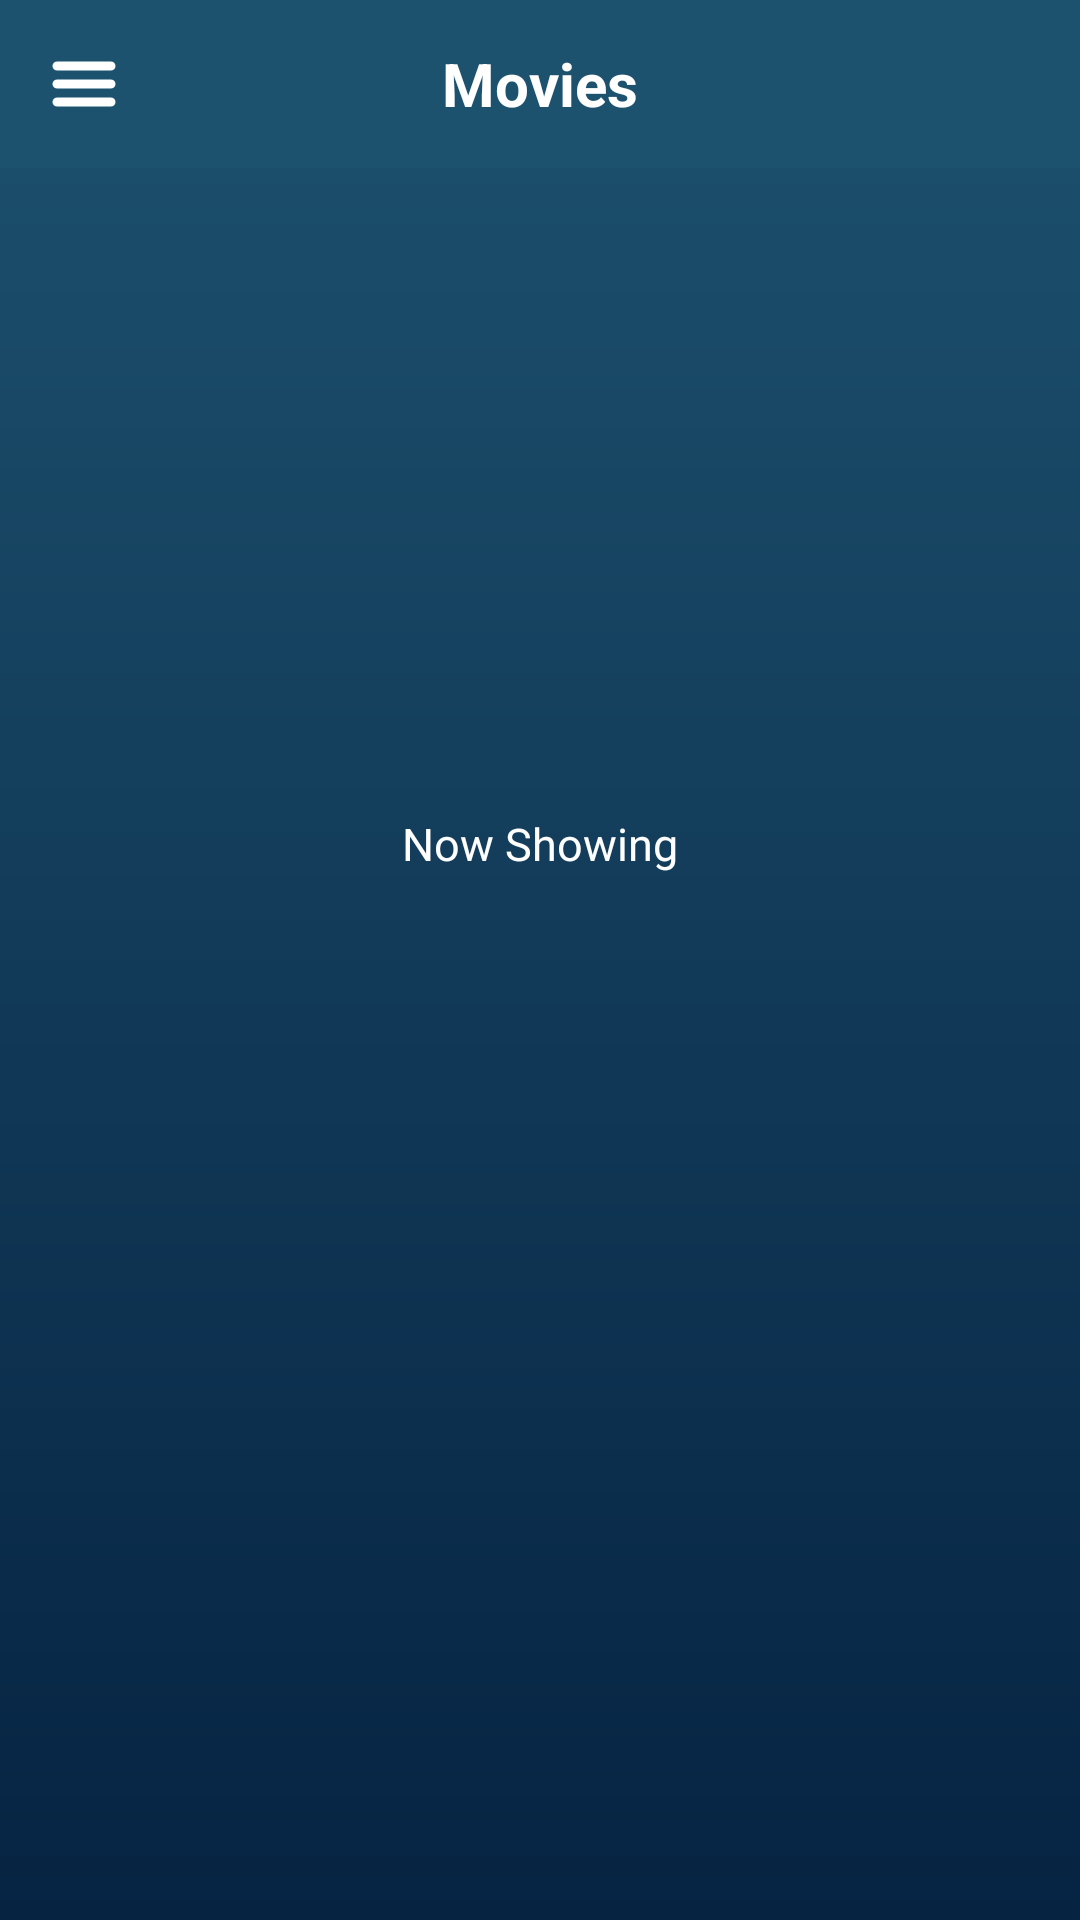

Named icons in this screenshot (1080w x 1920h) and their bounding boxes, (x1, y1, x2, y2):
lines hamburger: (52, 61, 116, 107)
